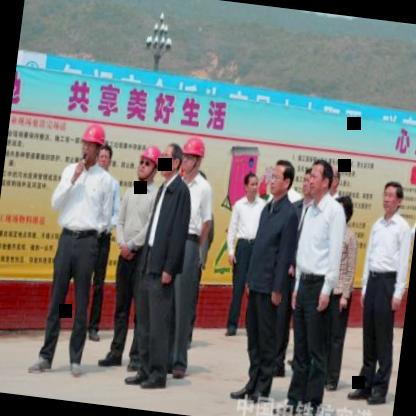head: (304, 157, 334, 200), (267, 157, 297, 200), (156, 139, 186, 182), (378, 176, 408, 218), (241, 167, 263, 203), (96, 138, 114, 173)
helmet: (78, 118, 106, 169), (177, 134, 208, 180), (136, 142, 164, 184)
